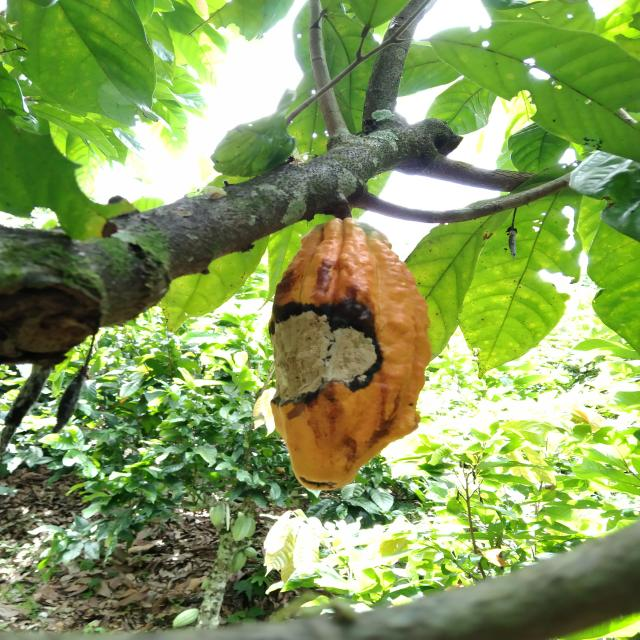Monilia: (264, 217, 434, 498)
